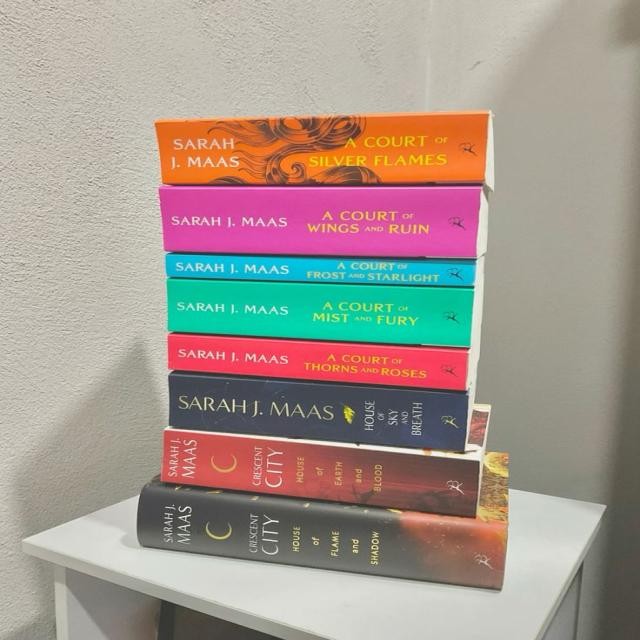book: (137, 478, 506, 590), (158, 428, 482, 517), (156, 112, 490, 186), (160, 186, 484, 258), (169, 373, 468, 451), (167, 278, 472, 346), (168, 334, 466, 389), (166, 254, 477, 287)
